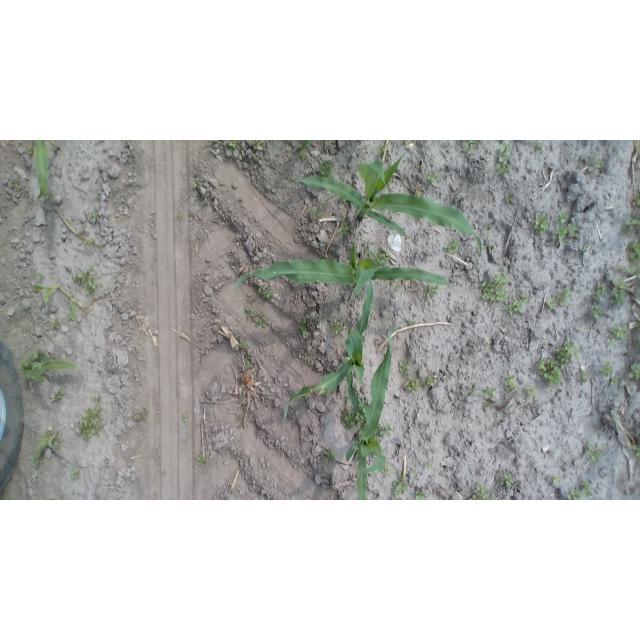Maize: (290, 154, 484, 259), (229, 248, 451, 309), (283, 275, 369, 429), (345, 327, 399, 498), (16, 351, 76, 380), (32, 142, 56, 199), (298, 140, 311, 160), (3, 489, 12, 500)
Weeds: (554, 210, 579, 246), (78, 406, 103, 441), (481, 272, 508, 303), (538, 355, 563, 386), (72, 268, 97, 294), (341, 404, 365, 428), (557, 342, 579, 367), (496, 142, 512, 176), (246, 306, 269, 327), (609, 280, 627, 306), (392, 471, 409, 497), (608, 323, 629, 343), (626, 239, 638, 272), (534, 212, 550, 234), (585, 443, 603, 462), (572, 482, 593, 498), (470, 484, 490, 500), (557, 286, 572, 306), (319, 161, 335, 178), (298, 140, 311, 160), (444, 238, 460, 254), (507, 300, 523, 315), (594, 281, 606, 300), (500, 473, 515, 488), (259, 285, 275, 299), (504, 374, 517, 391), (332, 320, 345, 337), (132, 408, 147, 422), (427, 283, 441, 298), (624, 217, 638, 232), (463, 141, 477, 156), (629, 362, 640, 381), (571, 487, 587, 500), (404, 379, 420, 392), (374, 251, 390, 264), (591, 303, 603, 319), (600, 361, 613, 375), (87, 211, 101, 224), (398, 360, 410, 375), (10, 176, 20, 193), (377, 424, 391, 436), (300, 317, 309, 335), (376, 142, 388, 155), (340, 222, 352, 235), (483, 385, 496, 397), (53, 389, 65, 401), (425, 375, 436, 388), (237, 339, 247, 352), (578, 370, 588, 383), (547, 297, 557, 309), (595, 156, 605, 168), (427, 171, 437, 183), (198, 454, 207, 467), (357, 398, 367, 409), (91, 393, 102, 403), (468, 384, 478, 395), (526, 387, 537, 397), (519, 291, 529, 302), (383, 464, 392, 476), (325, 449, 335, 459), (51, 318, 61, 328), (71, 469, 81, 479), (45, 189, 54, 200), (228, 140, 240, 148), (26, 143, 34, 155), (552, 473, 561, 483), (415, 491, 426, 499), (610, 377, 619, 386), (311, 208, 321, 216), (632, 194, 638, 206), (425, 461, 433, 470), (505, 195, 513, 204), (254, 140, 263, 148), (393, 283, 402, 291), (37, 274, 46, 282), (632, 445, 638, 456), (535, 143, 543, 151), (417, 187, 425, 195), (183, 413, 189, 422), (582, 246, 588, 254), (193, 180, 199, 188), (401, 140, 407, 144)
